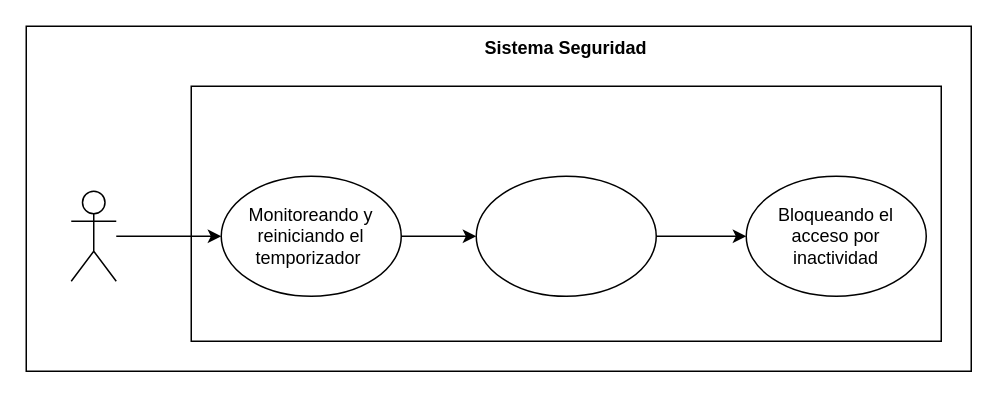
This 998x398 diagram has some shape labels left out. The shapes that lost their labels are listed below. From the top down, each one's centre as x and y in pixels, then its label:
At (x=93, y=235): "Sistema".
At (x=565, y=235): "Expirando de forma automática la sesion".
